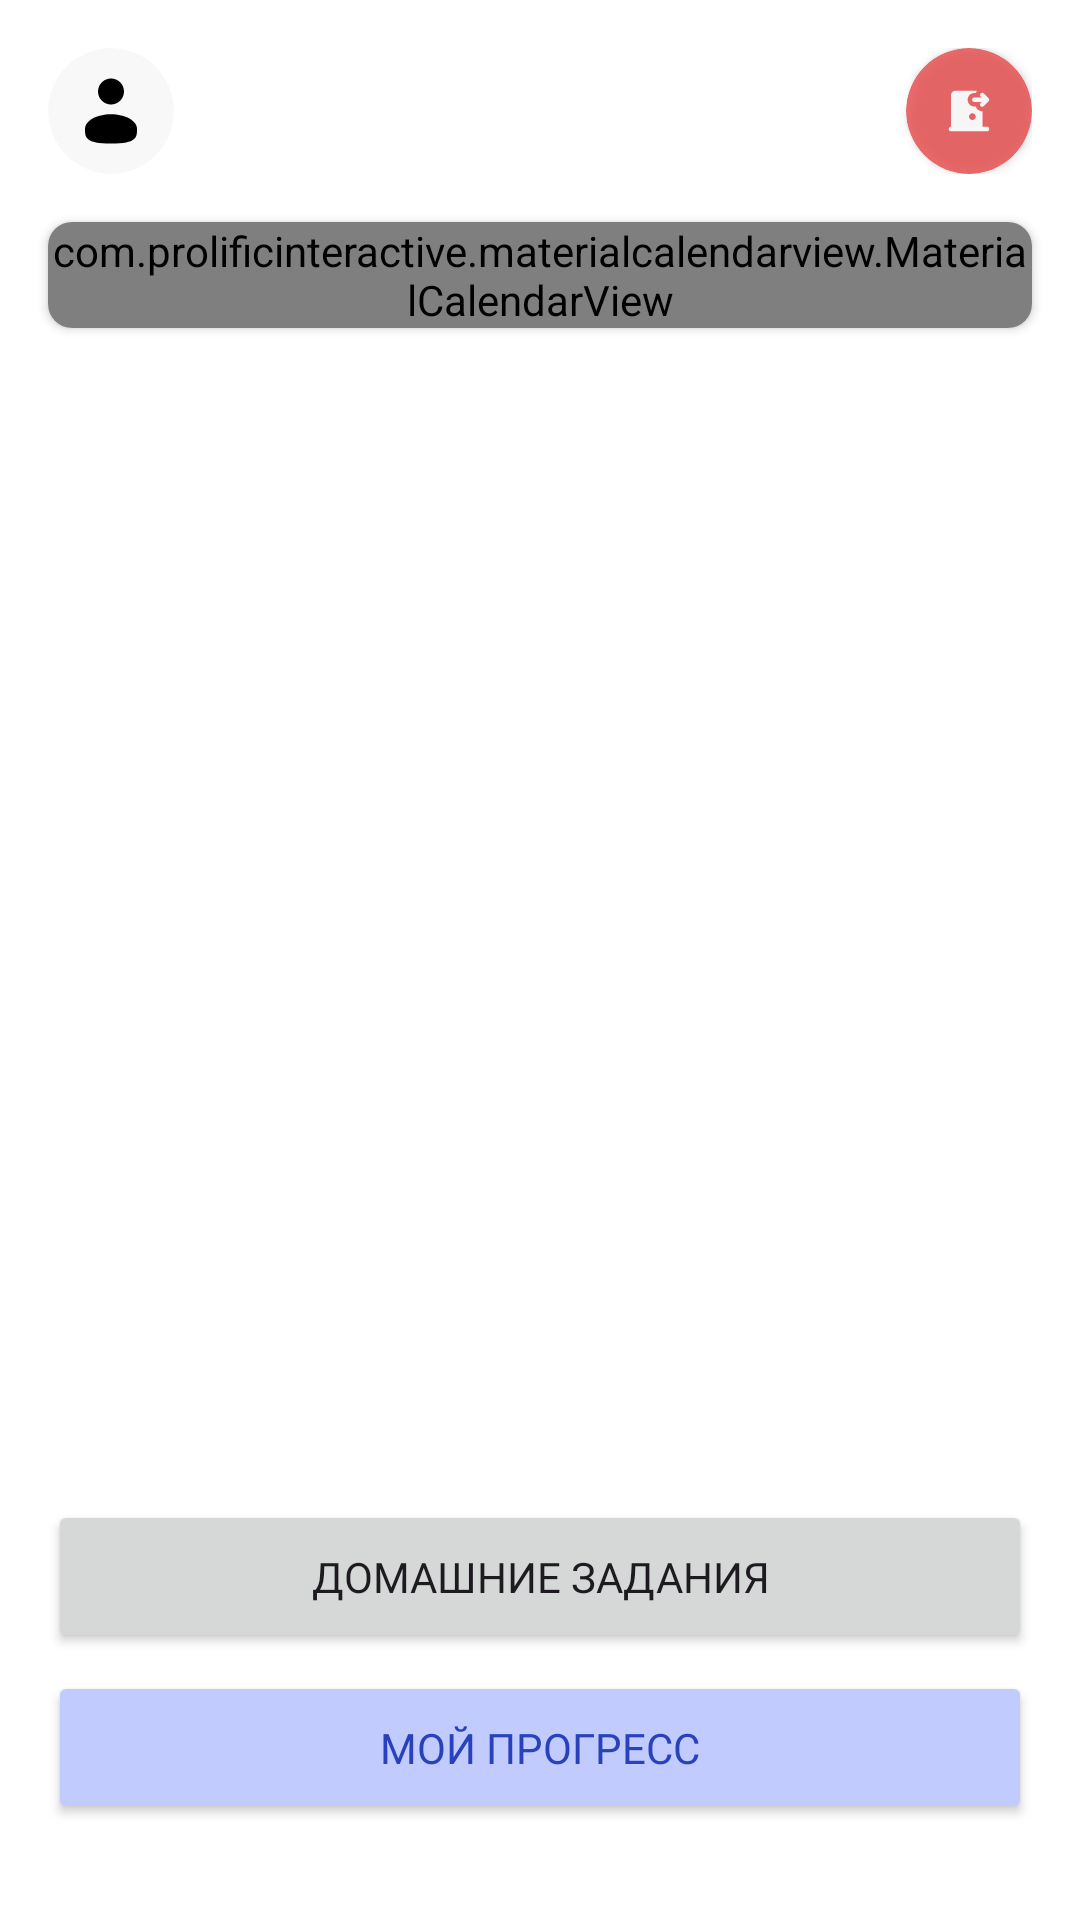

Icon click points for this 1080w x 1920h phone screenshot, format (x,y):
exit: (969,111)
